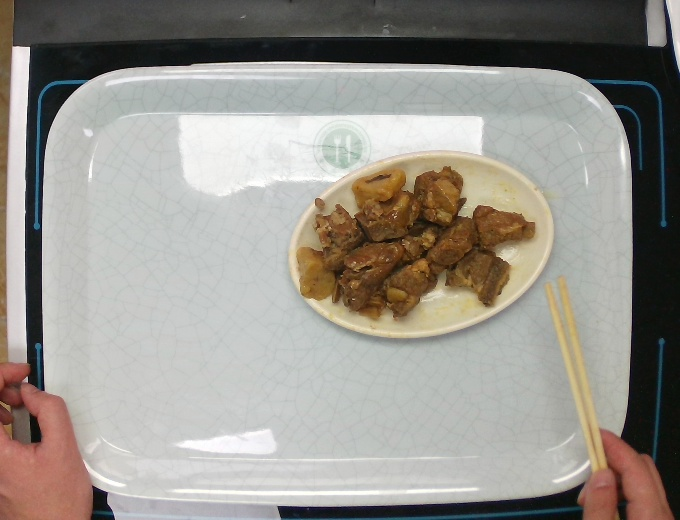JYsf-Tuo_Yuan_Wan: (287, 148, 556, 340)
